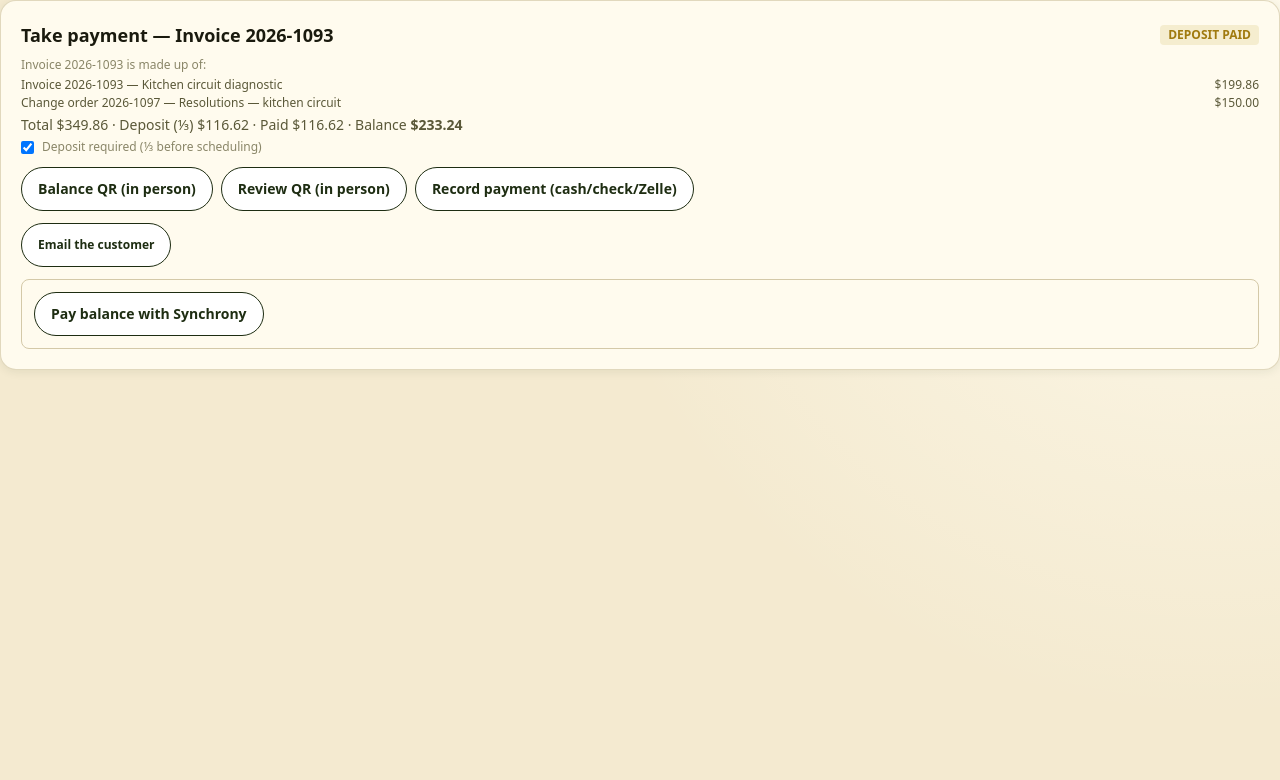
Test case: PaymentPanel › review request - a kind of the one panel, keyed by the job (Kyle, 2026-10-01) › is greyed with the reason, not hidden, when the invoice has no job yet
Click the button "Email the customer" at (96, 245), box x1=21 y1=223 x2=172 y2=267
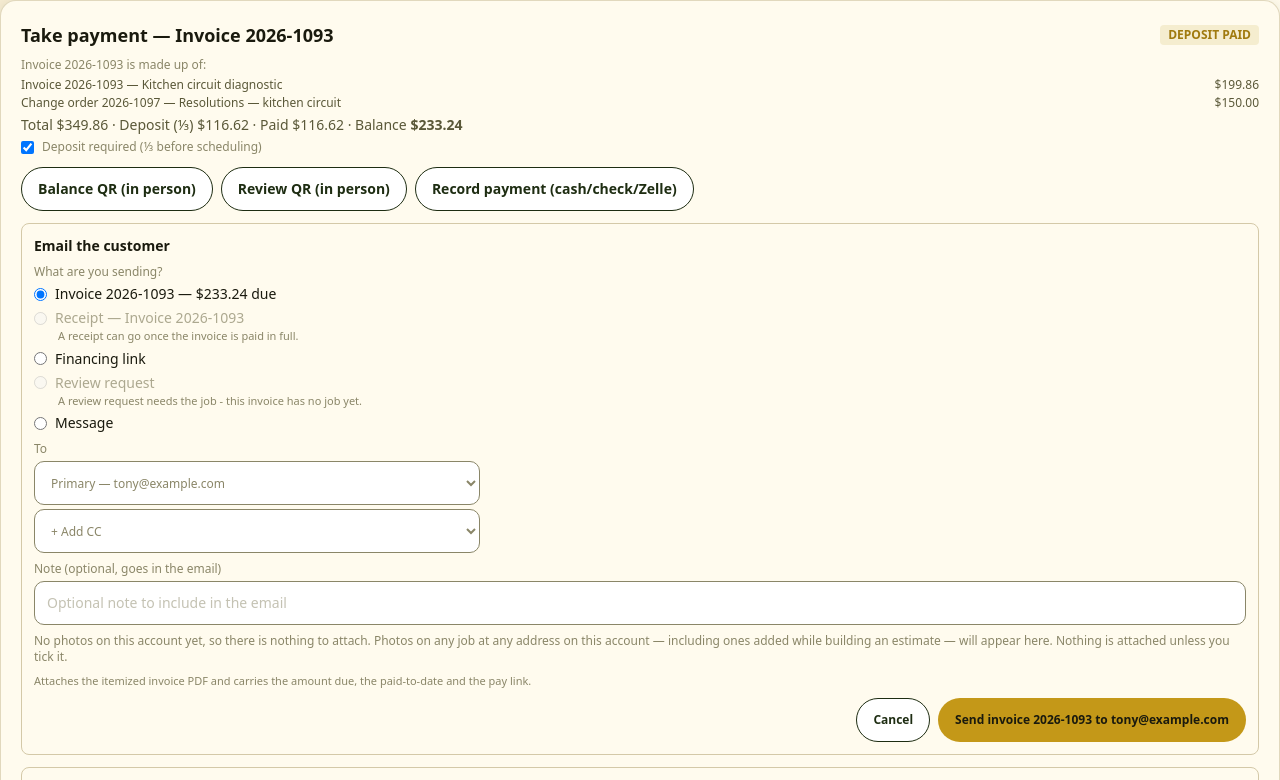
Now the radio button labelled "Review request" is disabled, box x1=34 y1=376 x2=47 y2=389
Now the text "needs the job - this invoice has no job yet" is shown, box x1=58 y1=392 x2=362 y2=408
